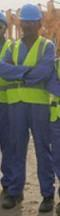hat: (15, 1, 51, 39), (1, 9, 12, 43)
vest: (14, 32, 54, 107), (47, 50, 60, 132), (1, 32, 10, 112)
